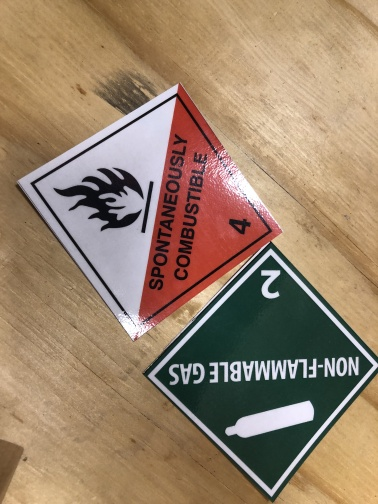NonFlammableGas: (144, 242, 378, 502)
SpontaneouslyCombustible: (17, 82, 283, 341)
